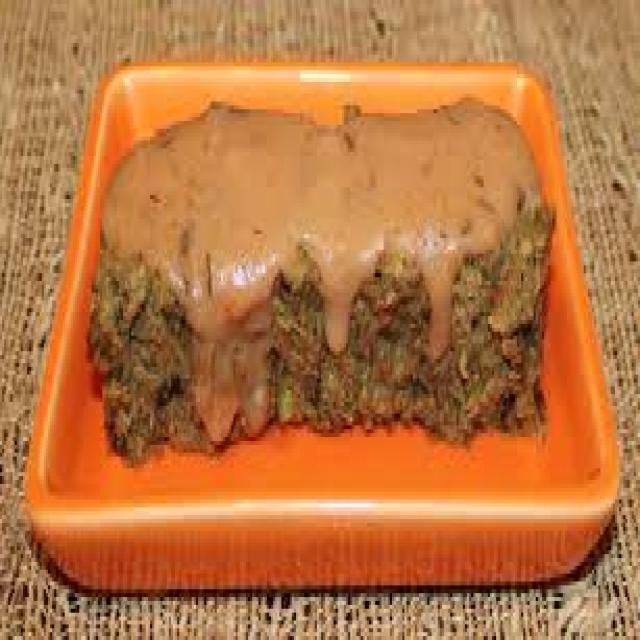Organik: (108, 106, 546, 444)
